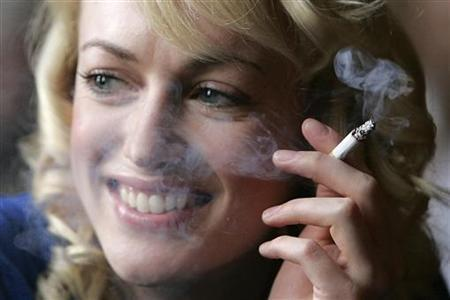cigarette: (326, 114, 375, 169)
